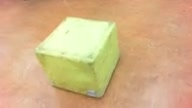cube: (35, 15, 120, 98)
